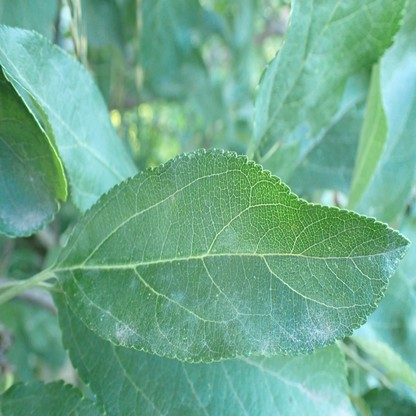powdery_mildew: (148, 286, 339, 352), (0, 144, 55, 233), (377, 245, 400, 273), (77, 283, 99, 310), (114, 319, 136, 346), (84, 260, 100, 276), (129, 274, 137, 288)
